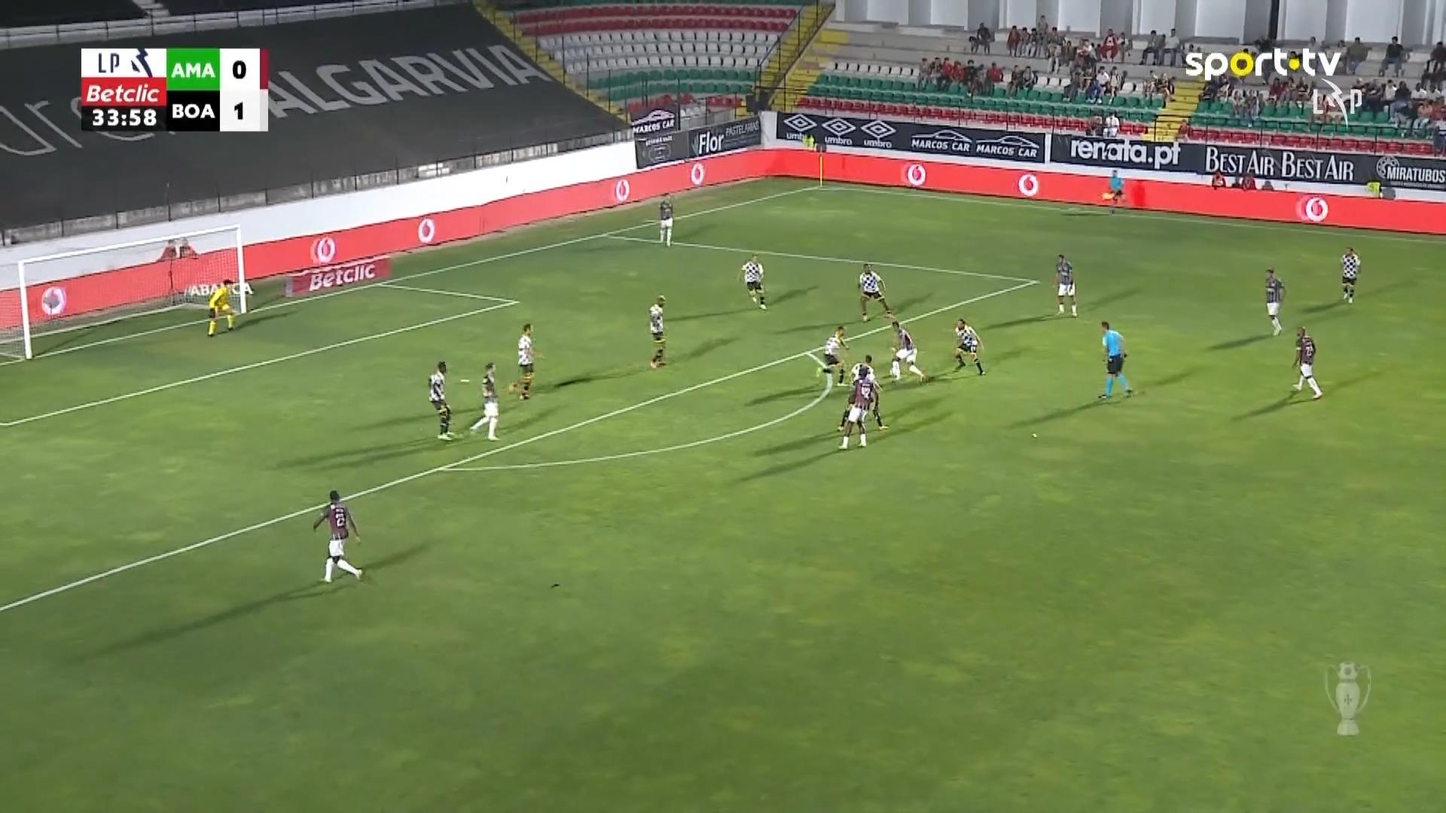goalkeeper: (206, 278, 236, 336)
player: (312, 489, 363, 583), (836, 365, 875, 449), (884, 312, 926, 383), (848, 354, 887, 428), (508, 322, 541, 399), (468, 361, 500, 440), (1290, 325, 1322, 399), (427, 360, 456, 440), (817, 324, 850, 387), (857, 263, 892, 321), (952, 317, 985, 376), (1264, 266, 1286, 336), (1054, 253, 1078, 317), (740, 254, 767, 310), (647, 294, 667, 368), (1339, 246, 1360, 303), (657, 192, 674, 246)
referee: (1097, 319, 1133, 399), (1106, 167, 1124, 212)
